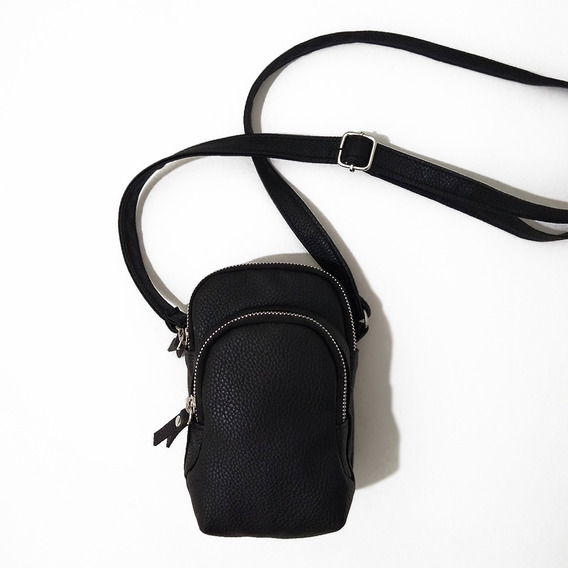cartera: (152, 256, 375, 545)
